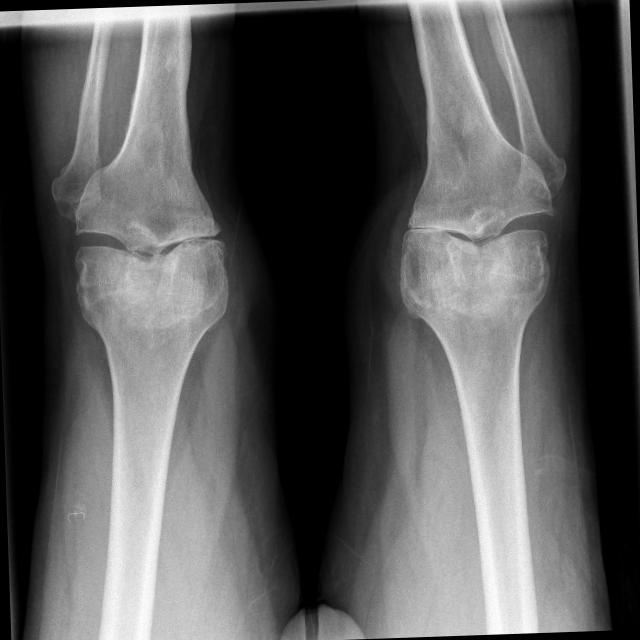Knee: (67, 172, 232, 334), (396, 163, 561, 322)
